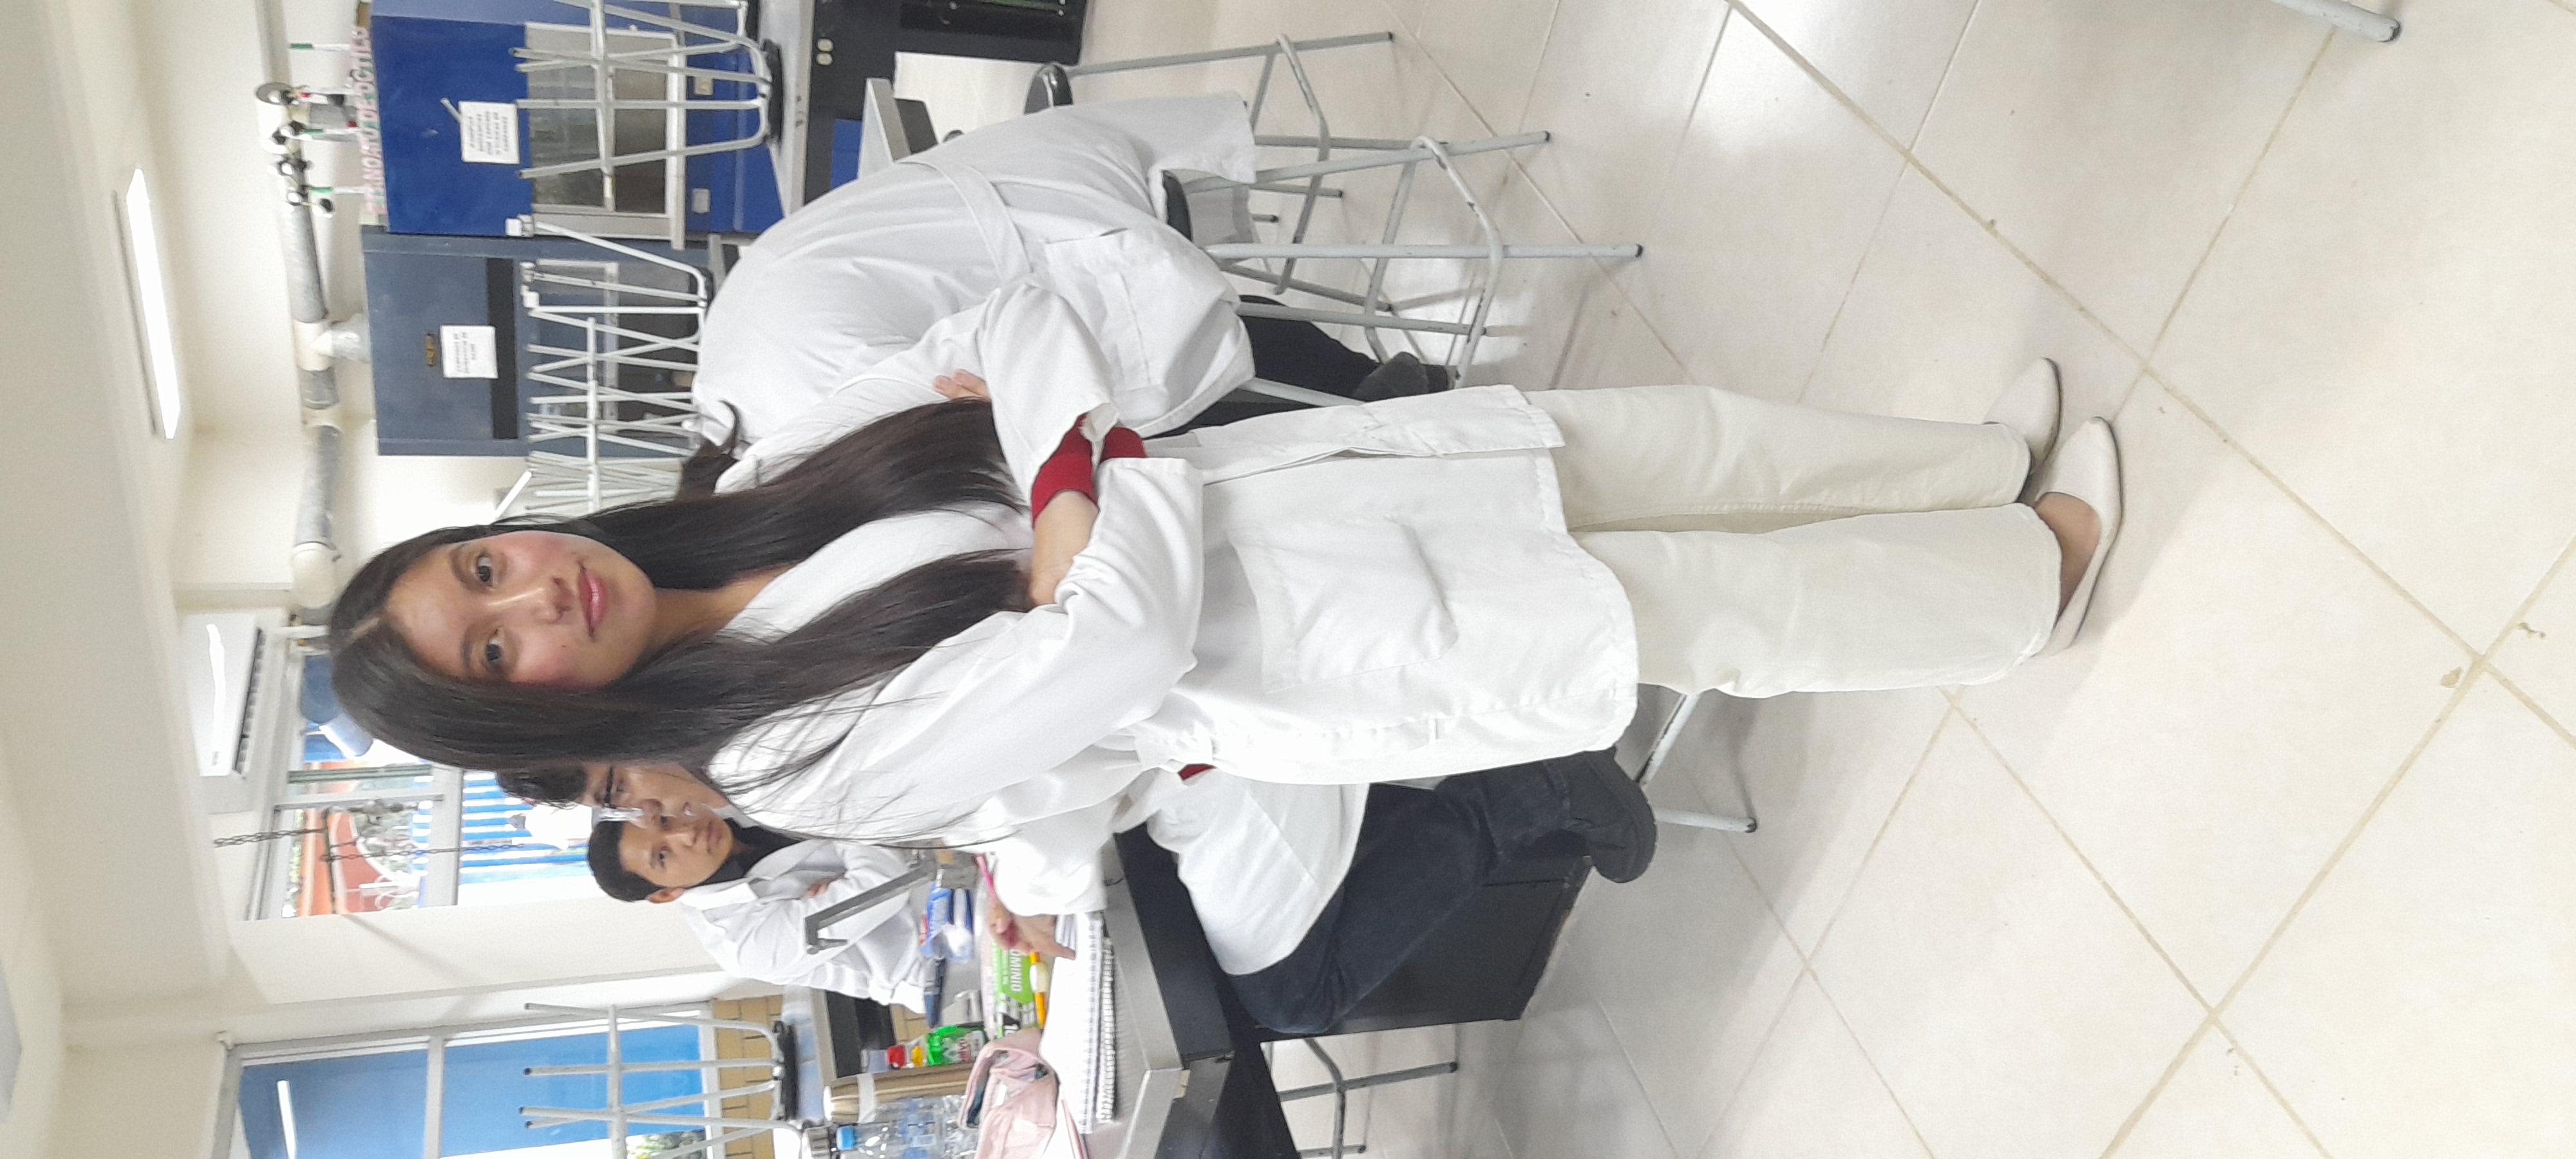Bata-Correcta: (697, 149, 1932, 955)
